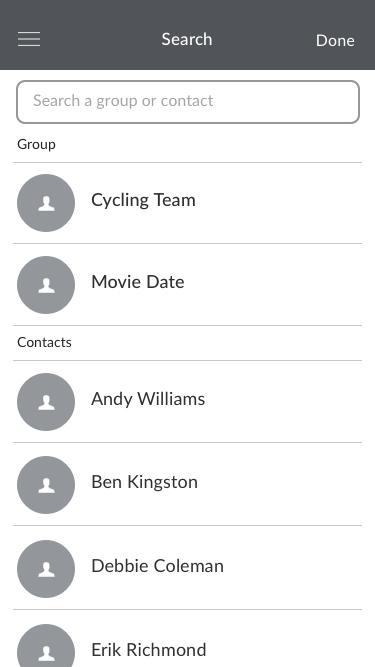EditText: (17, 81, 361, 126)
Icon: (17, 539, 77, 599), (17, 173, 76, 233), (17, 255, 76, 315), (18, 373, 76, 432), (18, 456, 76, 515), (17, 623, 76, 667), (18, 32, 42, 48)
Text: (34, 95, 214, 111), (92, 557, 224, 574), (91, 391, 206, 409), (92, 473, 199, 492), (92, 192, 197, 210), (91, 641, 207, 657), (92, 274, 185, 290), (161, 32, 214, 47), (18, 336, 73, 348), (316, 34, 355, 48), (19, 139, 57, 153)
